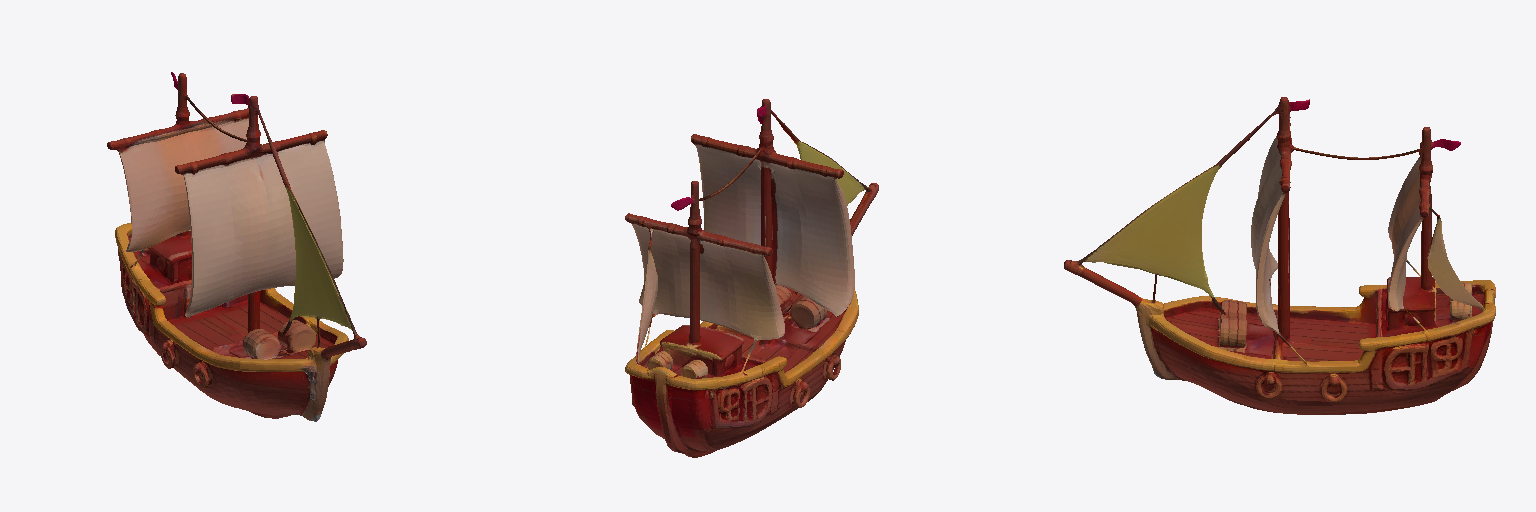
3 views of the same model, side by side, from view 1: azimuth 30°, elevation 25°; view 2: azimuth 150°, elevation 25°; view 3: azimuth 270°, elevation 25° (orthographic).
Visible parts, largest first — view 1: tripo_node_e38d123e-563b-4b96-a90f-77405cf2ca18; view 2: tripo_node_e38d123e-563b-4b96-a90f-77405cf2ca18; view 3: tripo_node_e38d123e-563b-4b96-a90f-77405cf2ca18.
Part boxes in pixels (x1,y1,x2,y2): tripo_node_e38d123e-563b-4b96-a90f-77405cf2ca18: (107, 72, 366, 421); tripo_node_e38d123e-563b-4b96-a90f-77405cf2ca18: (625, 99, 878, 457); tripo_node_e38d123e-563b-4b96-a90f-77405cf2ca18: (1064, 97, 1495, 414).
Size of the model in its own units: 0.4104 by 0.8047 by 0.998.
1 materials, 1 textured.